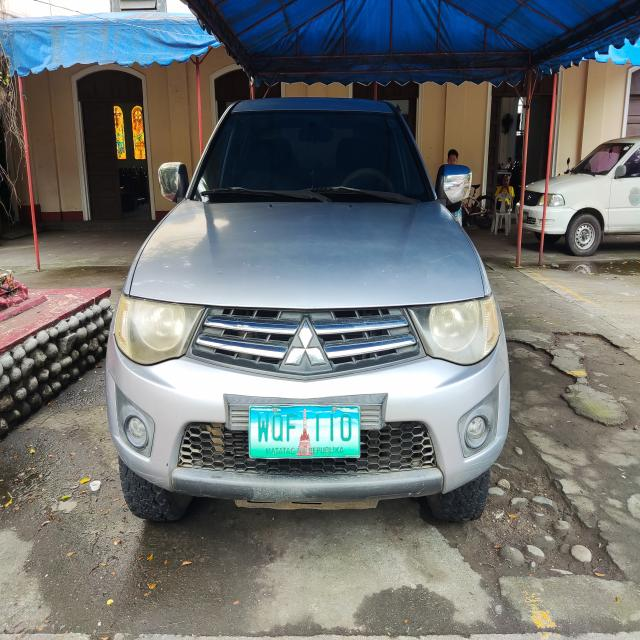plate: (248, 403, 362, 460)
